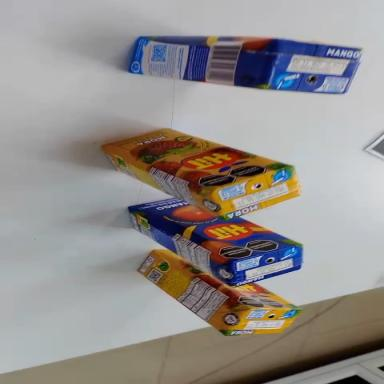HIT-MANGO: (116, 174, 309, 308), (126, 29, 362, 95)
HIT-MORA: (93, 112, 307, 237), (131, 228, 301, 362)
cara_F: (126, 173, 300, 285), (100, 110, 292, 207), (153, 229, 301, 332)
